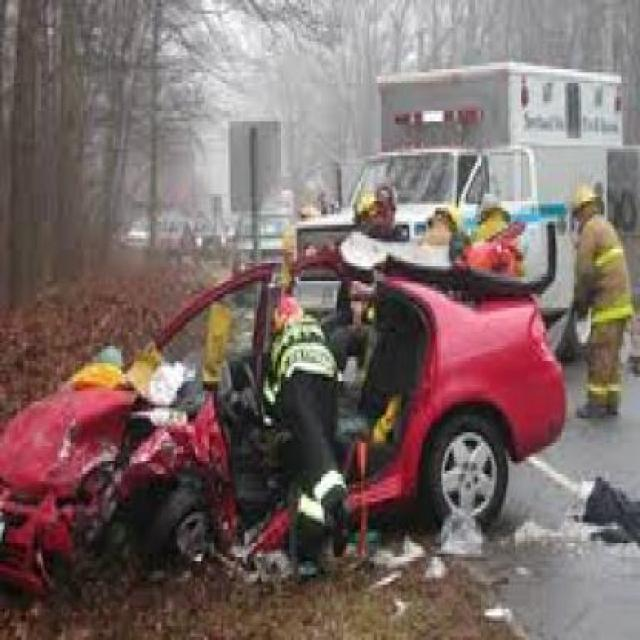accident: (1, 207, 590, 627)
